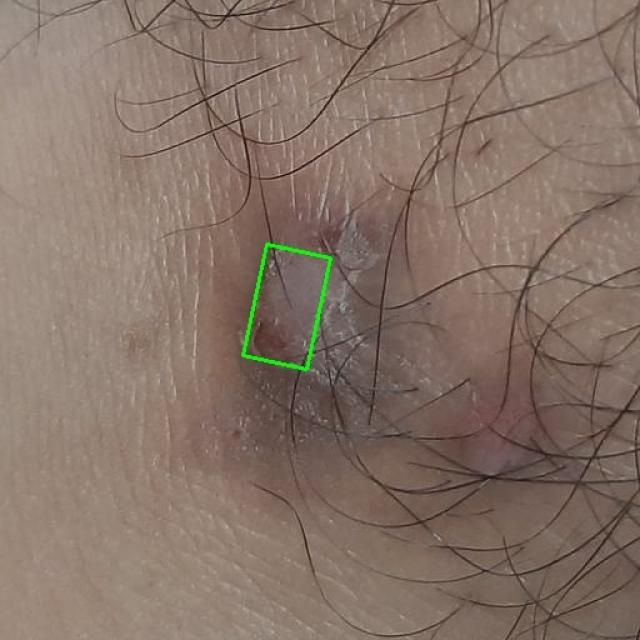Eczema: (243, 244, 331, 369)
